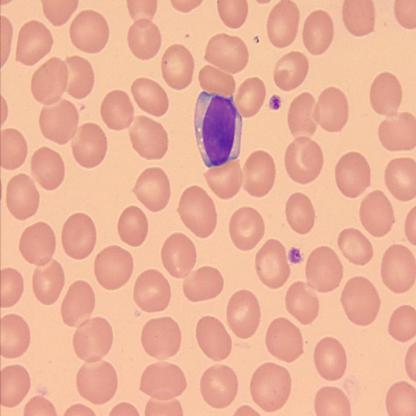Atypical lymphocyte: (193, 91, 239, 171)
